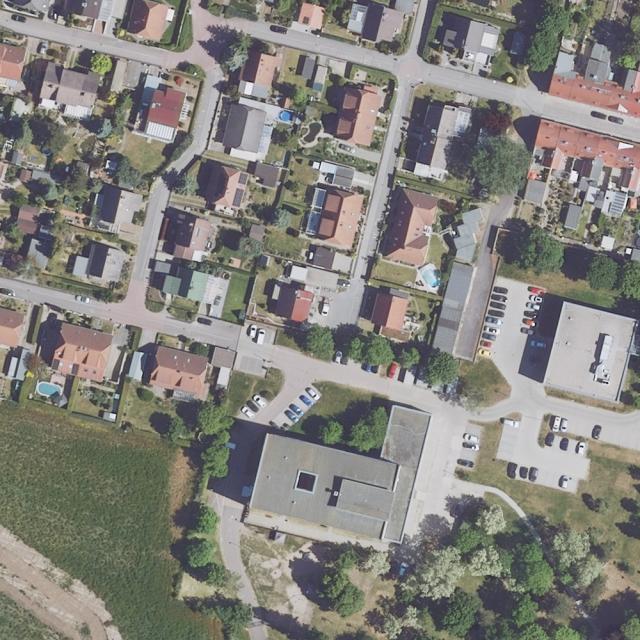PV: (233, 188, 244, 207), (239, 172, 247, 184)
